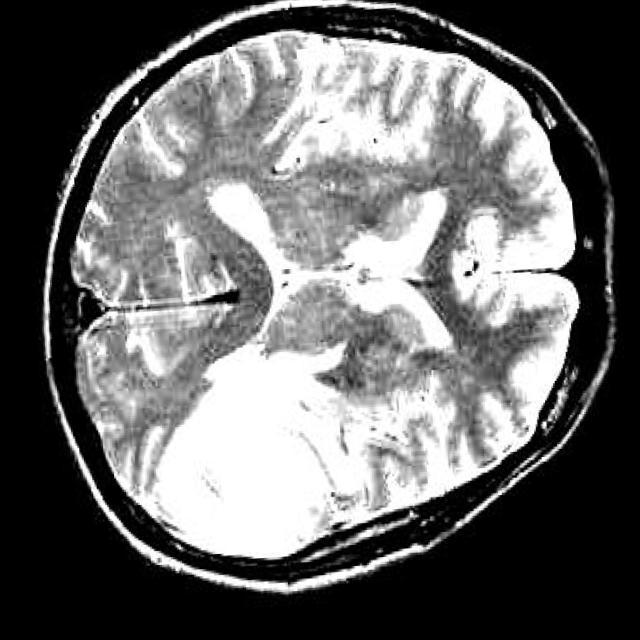Tumor: (142, 347, 366, 560)
